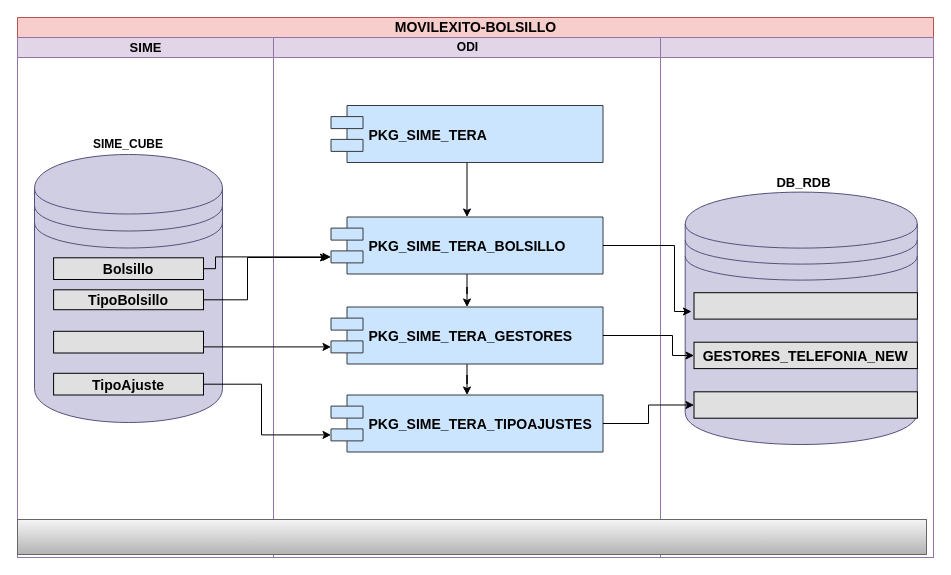
Image size: 951x575. Some labels were removed from this diagram. The shapes that lost their labels are listed below. From the top down, each one's box as (x1, y1, x2, y2) in pixels, then its label:
(660, 36, 934, 558): TERADATA
(693, 292, 917, 319): DEFINED_VALUE_TYPE_NEW
(53, 330, 204, 353): Gestor
(693, 391, 917, 418): tipo_ajuste_recargas_telefonia
(16, 518, 926, 554): VYRO
